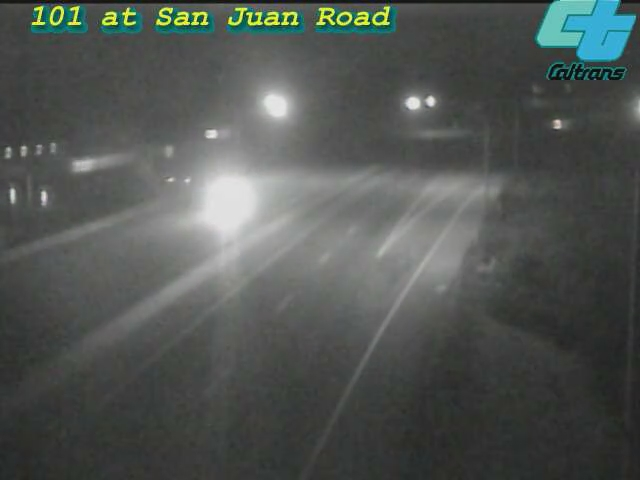vehicle: (190, 163, 270, 243)
